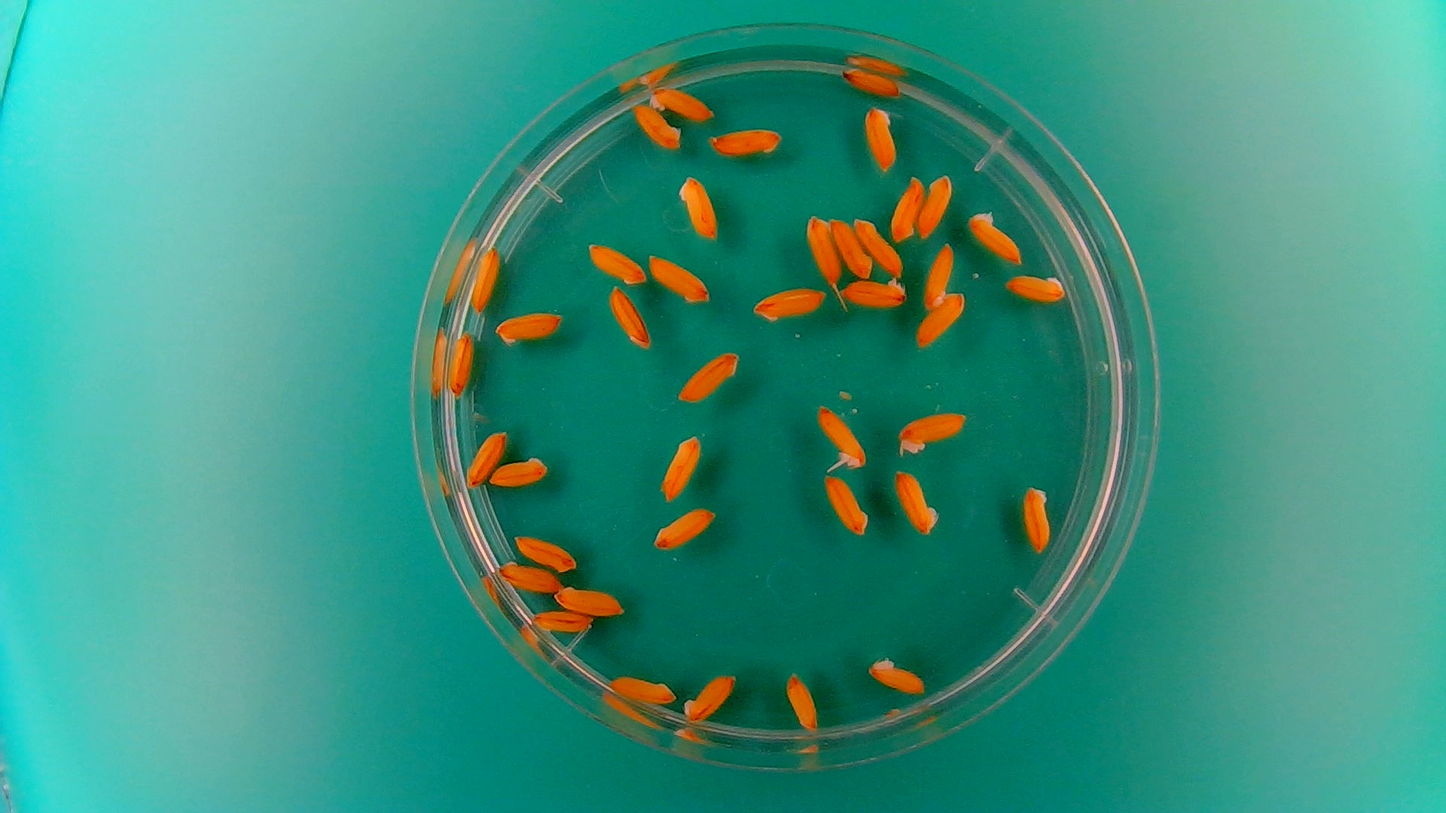no: (676, 346, 743, 403), (645, 251, 712, 306), (893, 408, 969, 456), (798, 212, 844, 291), (891, 466, 941, 537), (852, 213, 905, 278), (648, 503, 719, 551), (748, 282, 829, 324), (657, 430, 703, 502), (966, 208, 1023, 266), (824, 474, 874, 540), (680, 669, 738, 723), (916, 289, 967, 350), (607, 284, 652, 352), (828, 215, 874, 279), (494, 307, 565, 348), (511, 531, 580, 573), (676, 173, 718, 241), (463, 427, 509, 489), (587, 239, 648, 285), (864, 653, 928, 696), (554, 583, 628, 620), (605, 669, 678, 706), (887, 173, 925, 243), (647, 84, 715, 123), (709, 123, 784, 158), (630, 102, 682, 151), (916, 171, 954, 238), (493, 557, 563, 593), (783, 667, 821, 733), (839, 274, 910, 309), (1020, 483, 1054, 556), (922, 239, 956, 312), (468, 243, 502, 315), (863, 103, 899, 171), (488, 453, 551, 489), (1003, 271, 1068, 304), (446, 328, 475, 397), (840, 67, 901, 99), (529, 607, 593, 635)
yes: (813, 399, 869, 472)
